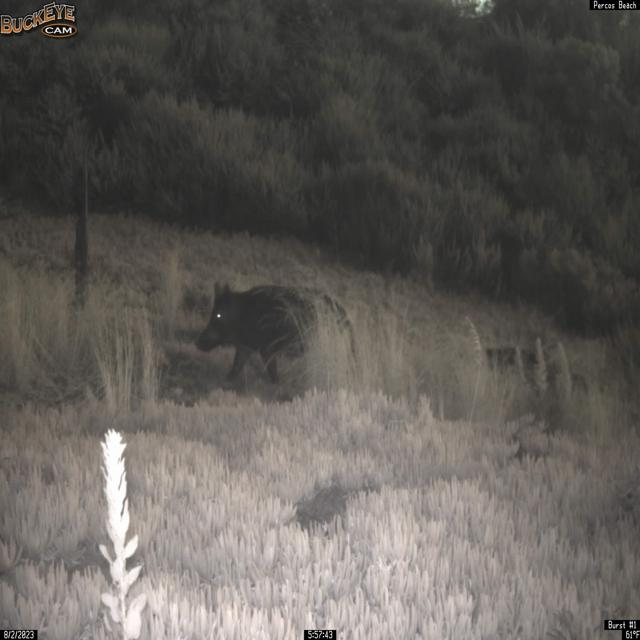pig: (194, 280, 357, 387)
